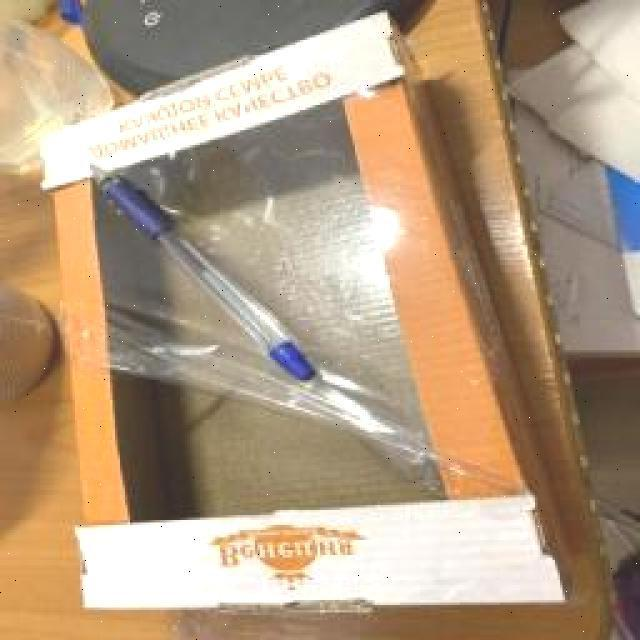pen: (85, 160, 318, 383)
